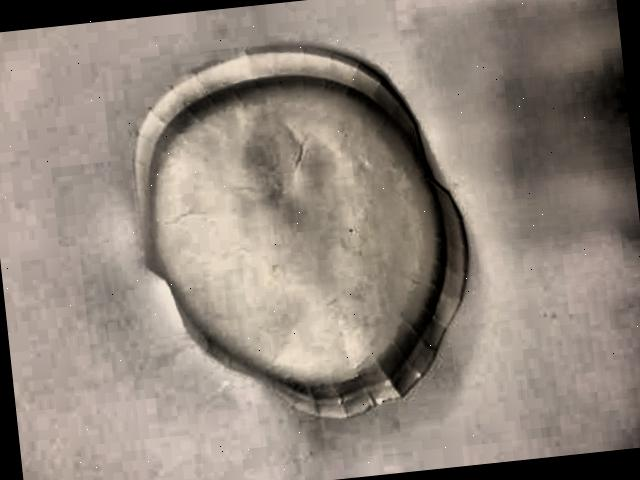Paper: (110, 21, 486, 430)
